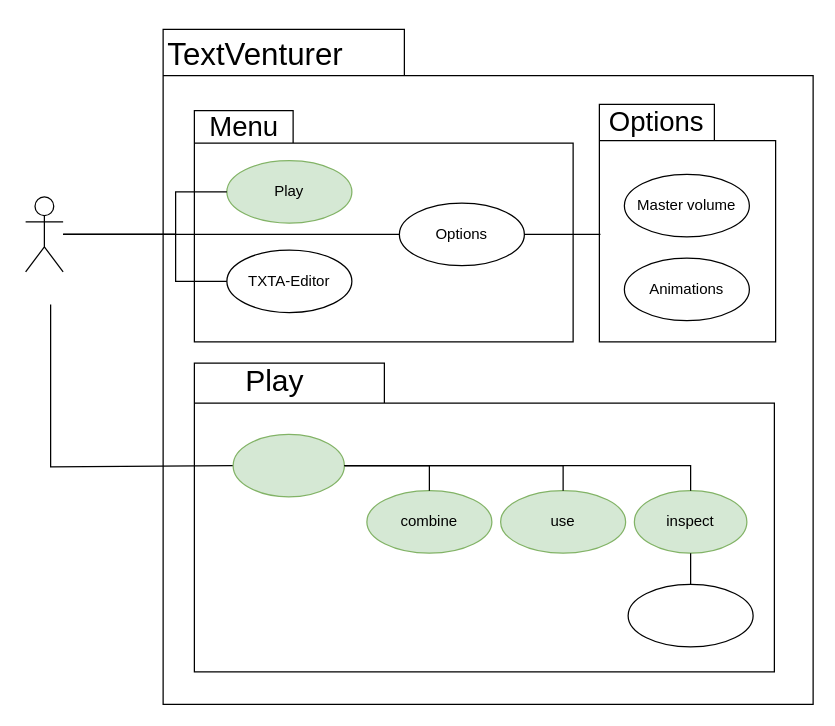
The diagram is 835 pixels wide and 726 high, and some of its shapes have lost their labels. Here are the shapes that lost their labels. From the top down, the box of each, then its label:
(24, 196, 63, 272): Gamer
(232, 433, 344, 497): text-input
(627, 583, 753, 647): animation
